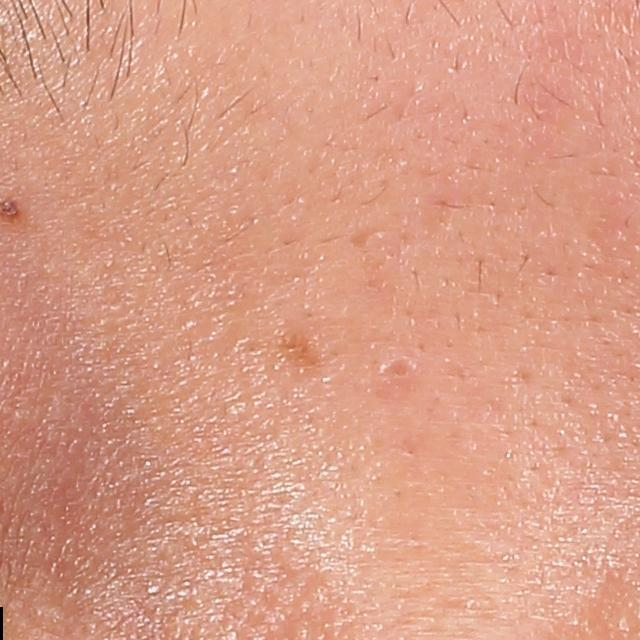atrophic_scar: (347, 223, 391, 250)
melasma: (274, 326, 331, 379)
